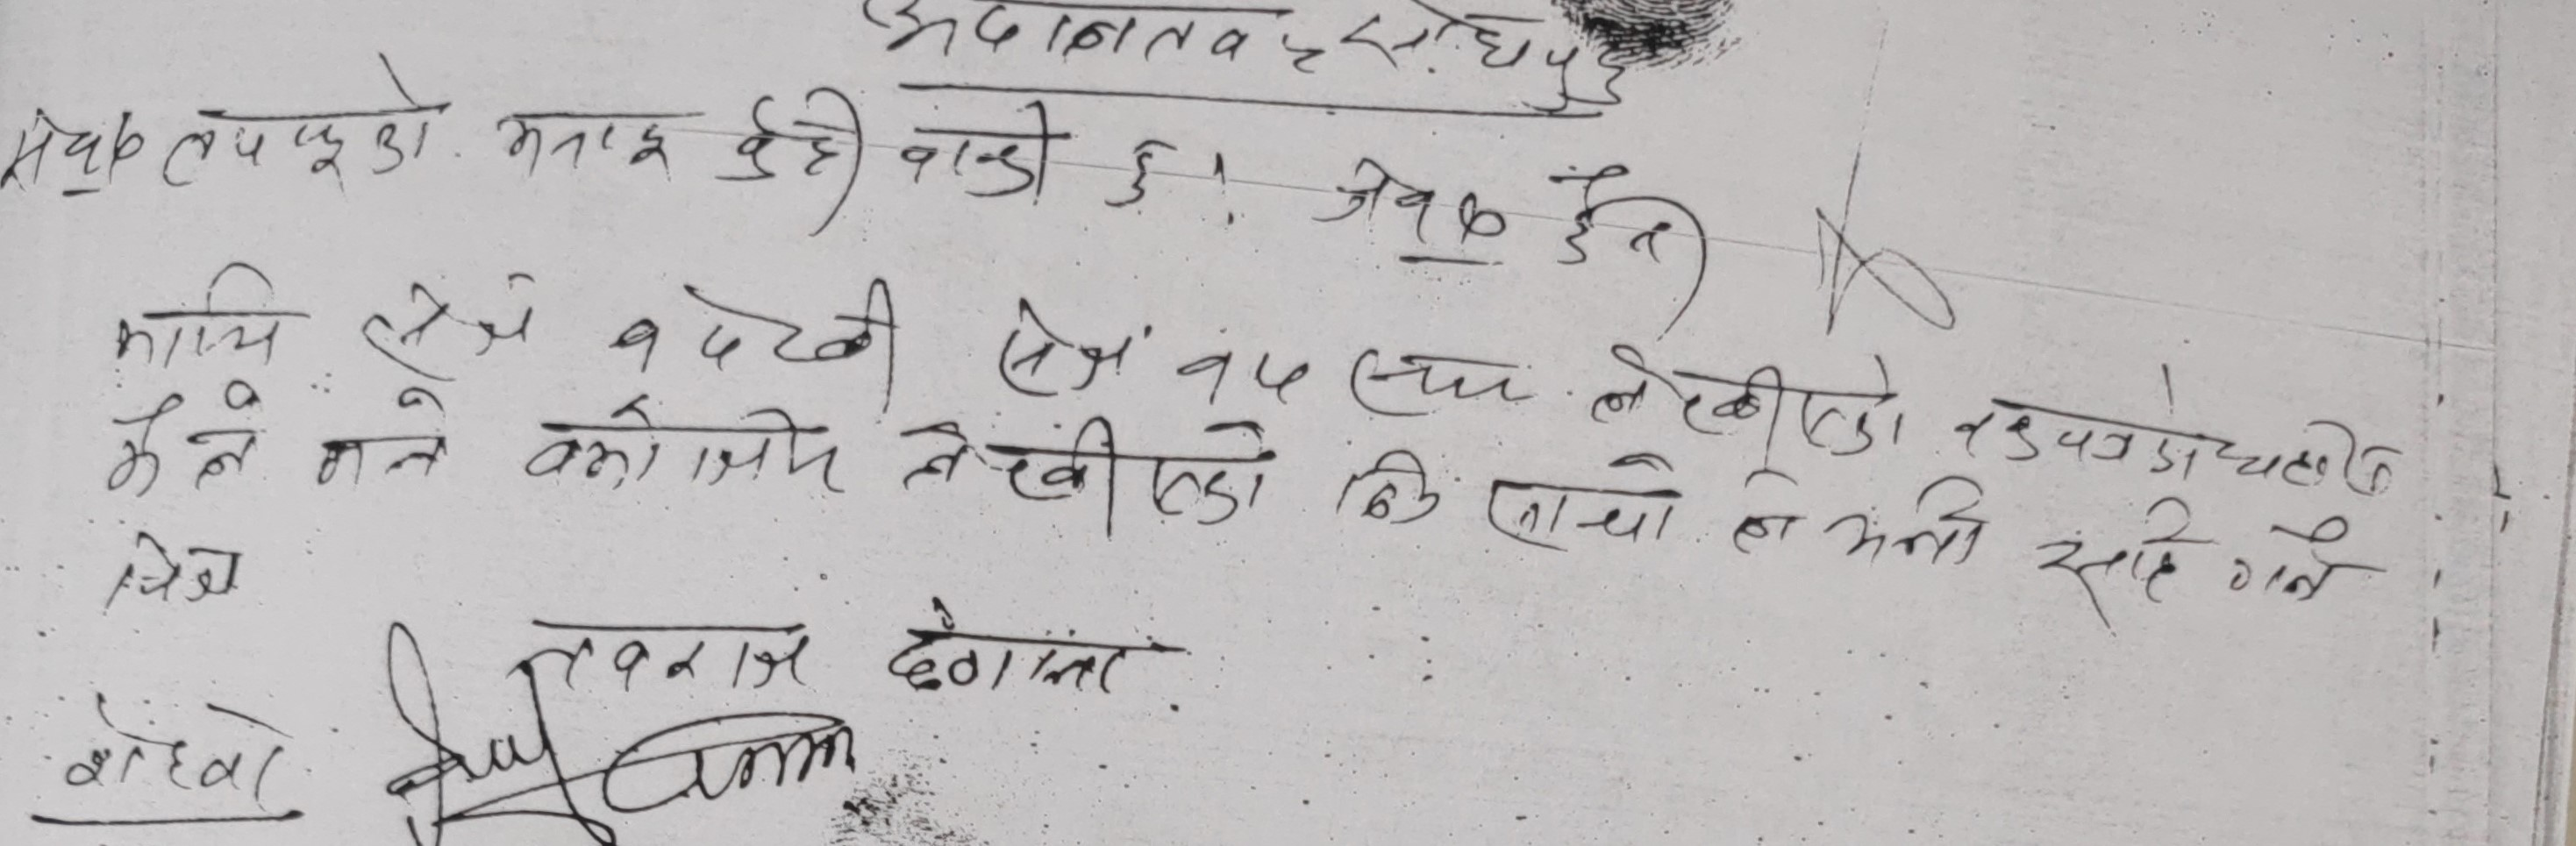text: (885, 406, 1281, 537), (1580, 337, 1912, 460), (158, 57, 440, 189), (511, 396, 843, 501), (609, 274, 904, 386), (1339, 5, 1641, 113), (884, 593, 1147, 706), (856, 3, 1275, 72), (56, 690, 291, 803), (516, 614, 810, 697), (2037, 493, 2206, 629), (1483, 450, 1686, 555), (724, 85, 872, 220), (110, 258, 296, 363), (895, 102, 1056, 217), (353, 278, 539, 370), (100, 386, 269, 486), (485, 105, 692, 184), (1837, 475, 1999, 575), (307, 384, 457, 493), (997, 294, 1142, 402), (2, 105, 148, 200), (1342, 340, 1521, 417), (2223, 514, 2348, 616), (108, 531, 238, 613), (1173, 342, 1304, 421), (1334, 448, 1452, 534), (1104, 136, 1189, 220), (1723, 467, 1801, 555)
